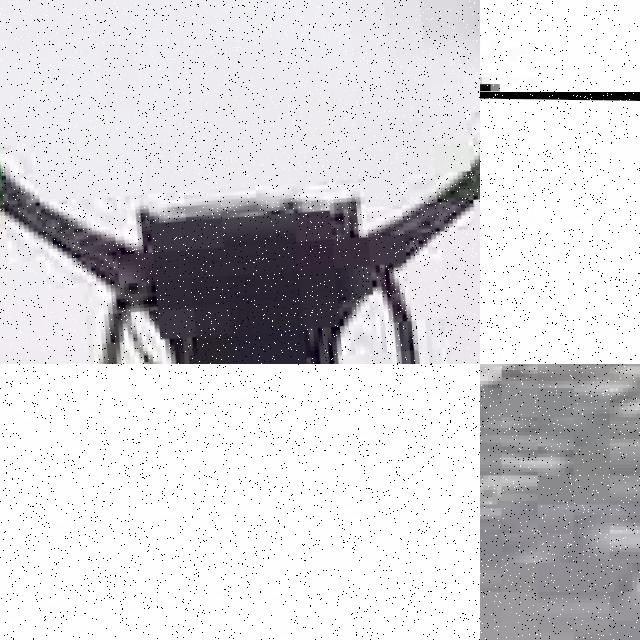0: (0, 0, 480, 364)
drone: (0, 364, 480, 640), (480, 92, 640, 364)
